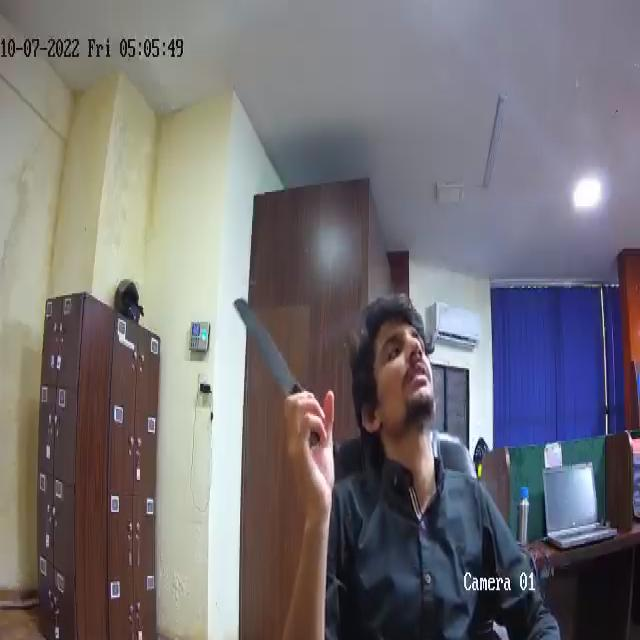Knife: (233, 299, 323, 453)
